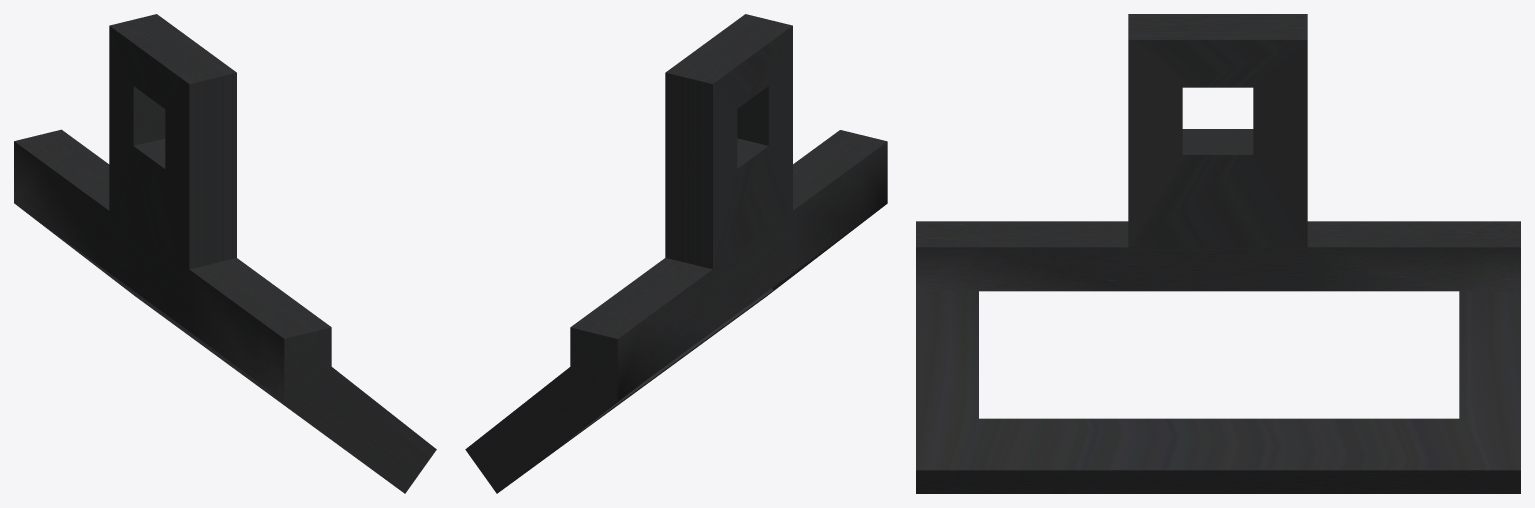
File: Swivel_LAMA1259863095.dae
The picture shows the model from 3 angles, left to right: view 1: azimuth 30°, elevation 25°; view 2: azimuth 150°, elevation 25°; view 3: azimuth 270°, elevation 25°; orthographic projection. The views are drawn at different scales.
Visible parts, largest first — view 1: Swivel_LAMA1259863095; view 2: Swivel_LAMA1259863095; view 3: Swivel_LAMA1259863095.
Boxes of the visible parts, box(x1,y1,x2,y2) form: Swivel_LAMA1259863095: box(14, 14, 436, 493); Swivel_LAMA1259863095: box(465, 14, 887, 493); Swivel_LAMA1259863095: box(916, 14, 1520, 493).
Size of the model in its own units: 0.0137 by 0.042 by 0.0317.
Materials: 1 (1 with a texture image).
